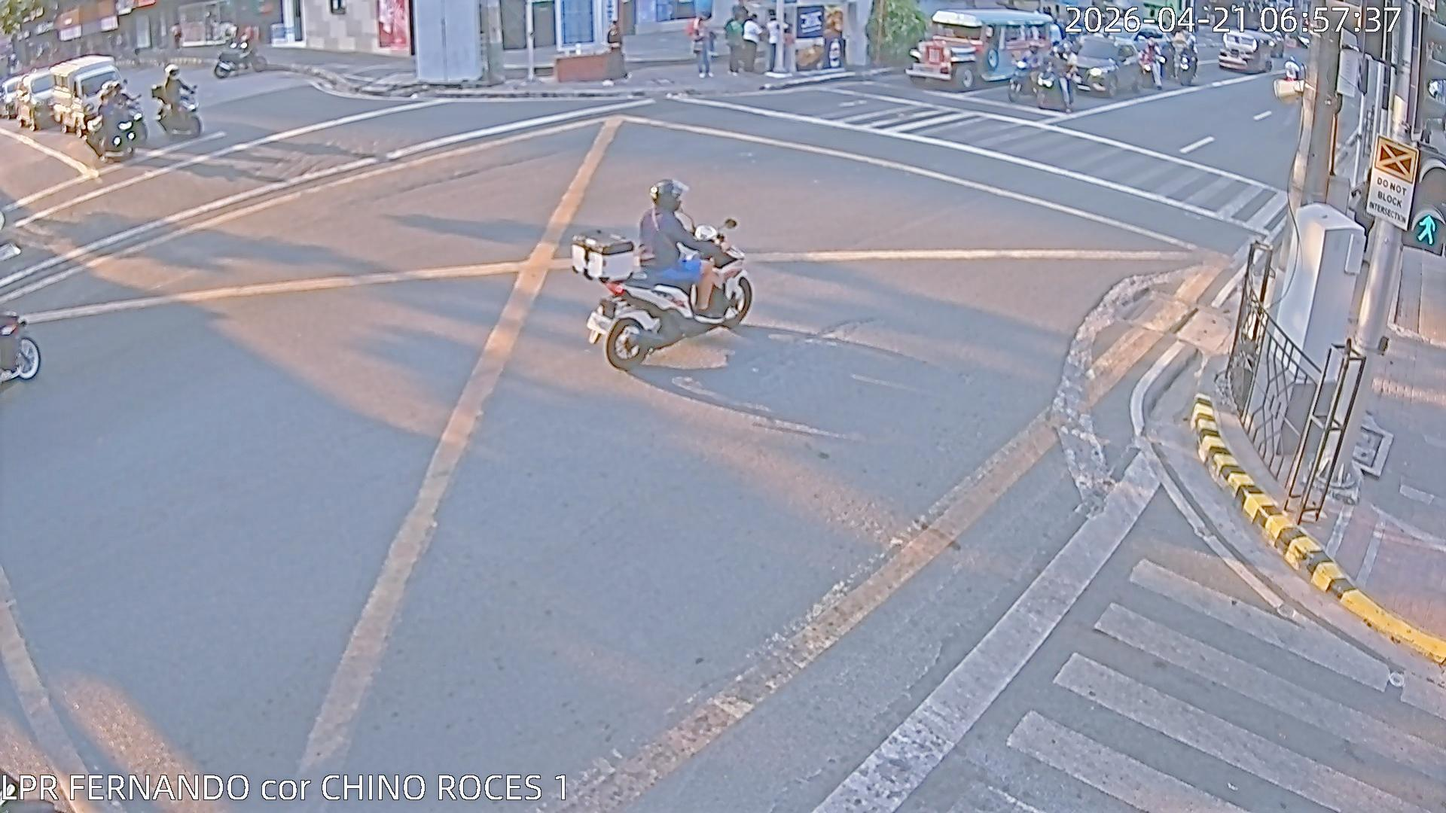Car: (1072, 24, 1145, 113), (48, 56, 122, 142), (17, 72, 72, 136), (0, 83, 29, 128)
Motor: (565, 161, 785, 378), (140, 65, 227, 160), (78, 89, 147, 167), (0, 297, 44, 407), (214, 21, 281, 89), (1036, 44, 1075, 113), (1173, 30, 1203, 97), (1134, 32, 1161, 97), (1012, 35, 1034, 94)
